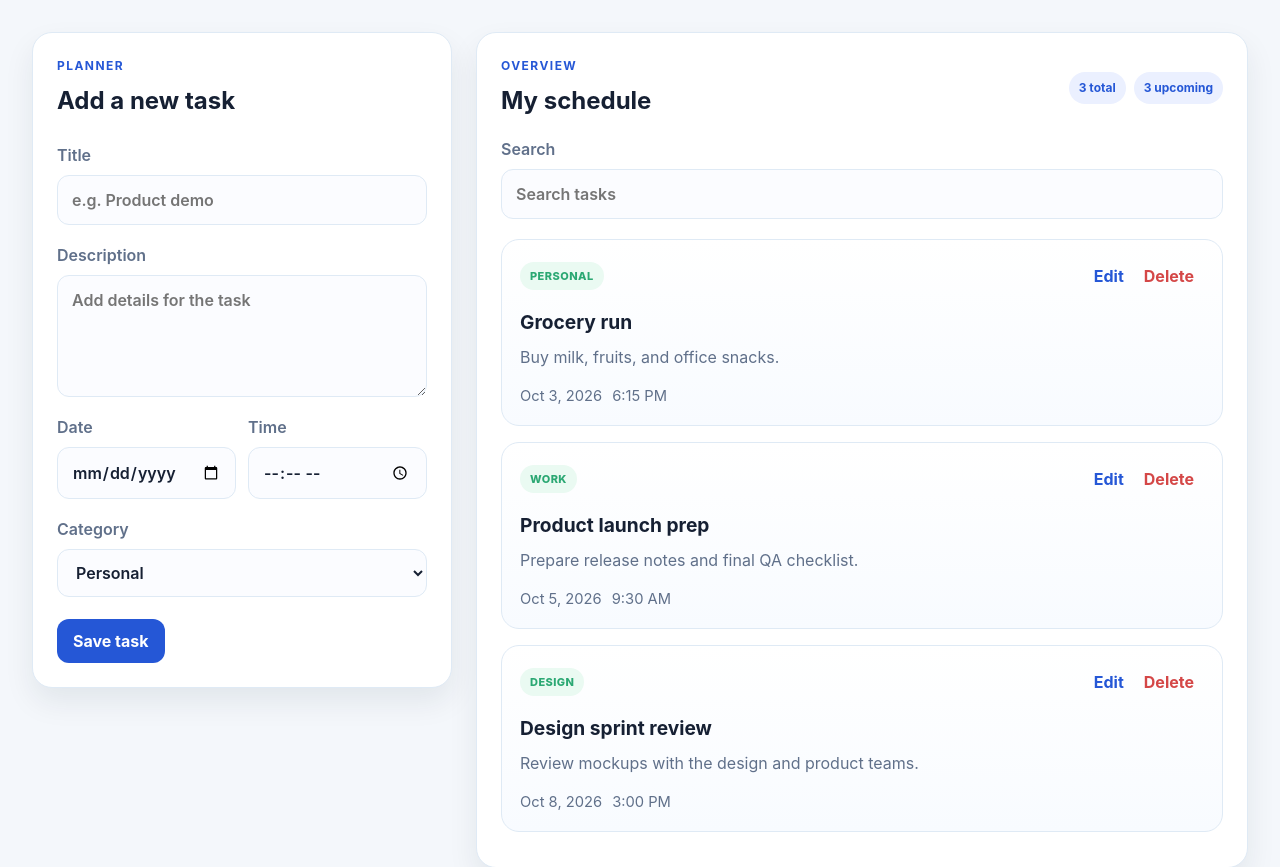
Test: Planner app › adds a task and filters tasks with search
Expected: the heading "Product launch prep" is shown, [520,513,709,537]
Type "Team sync" into the field labelled "Title" at (242, 200), box [57,175,427,225]
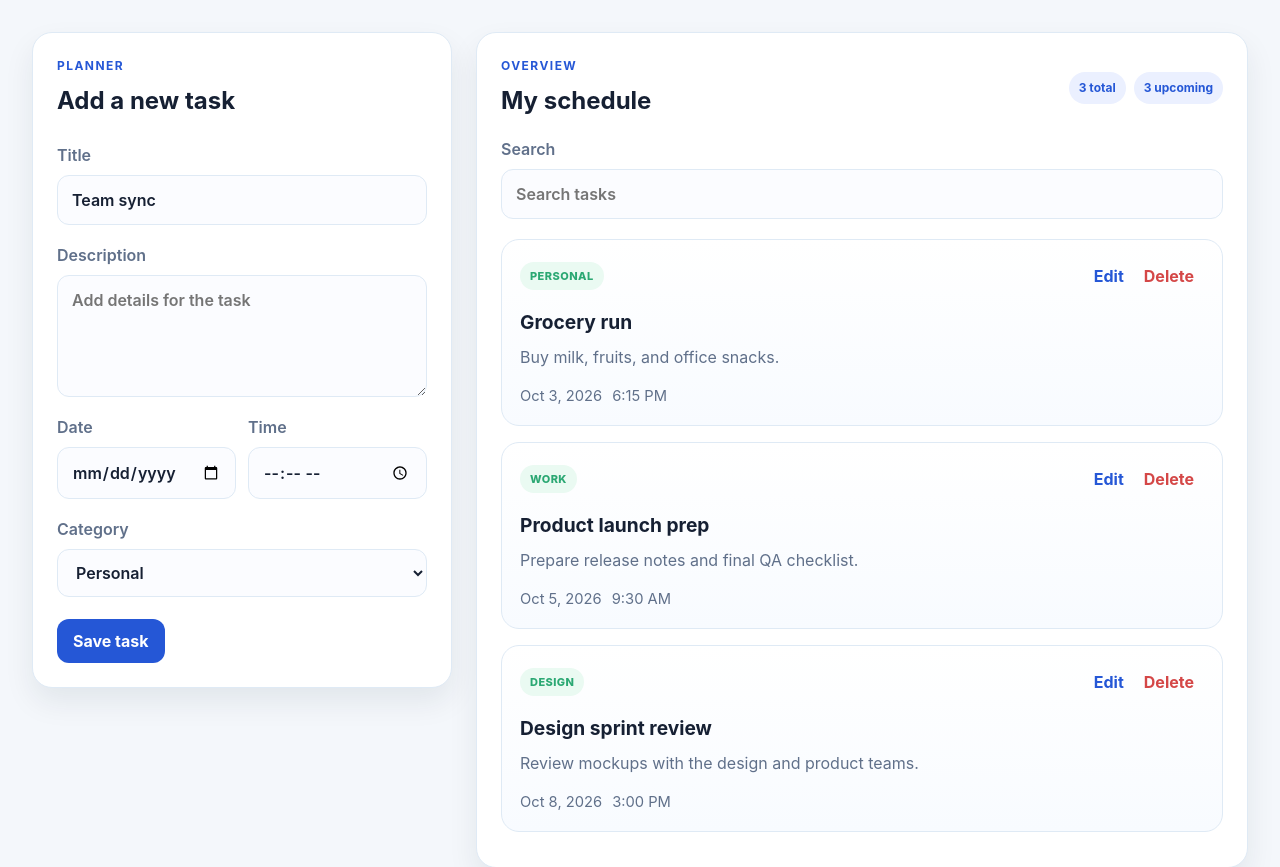
Type "2026-10-15" into the date field labelled "Date" at (146, 473), box [57,447,236,499]
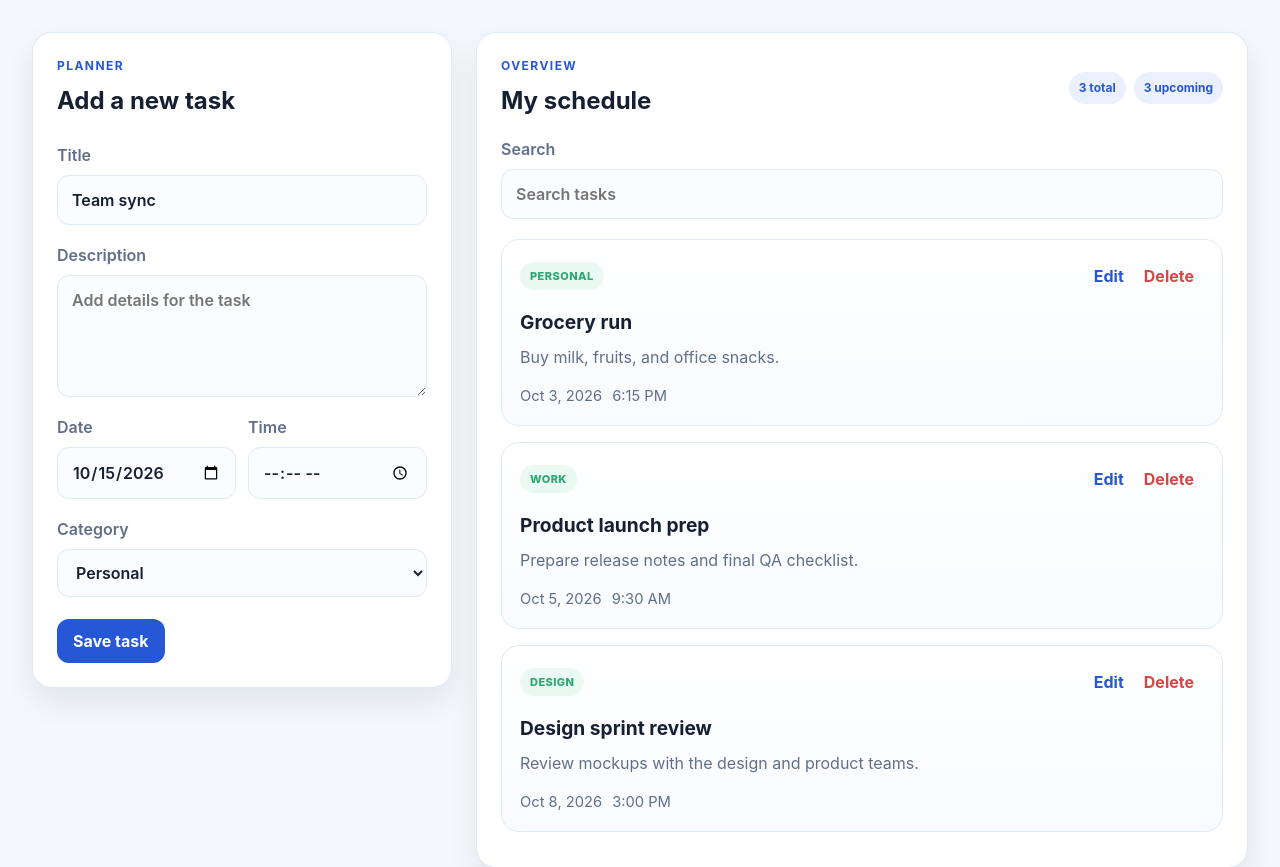
Type "14:30" into the time field labelled "Time" at (338, 473), box [248,447,427,499]
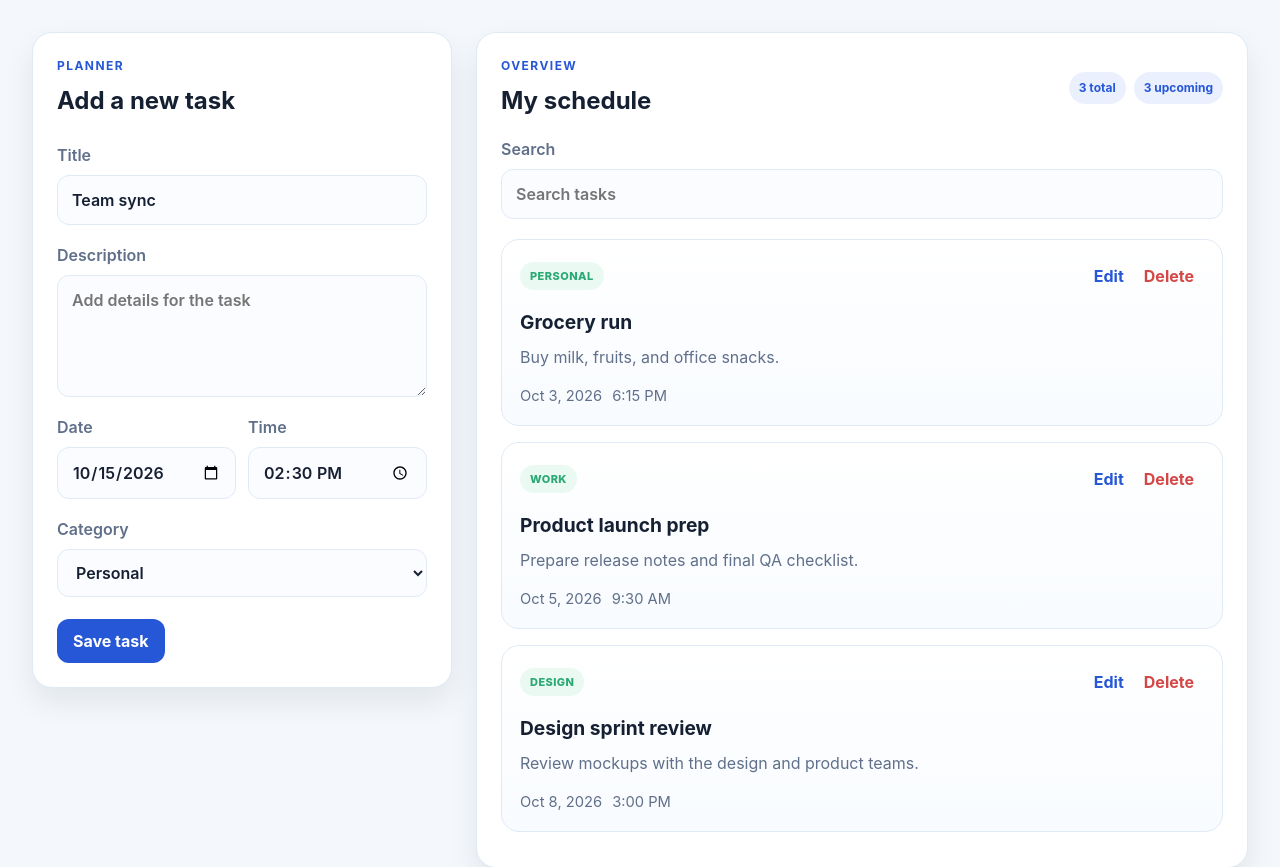
Type "Finalize launch checklist and owners." into the text box labelled "Description" at (242, 336), box [57,275,427,397]
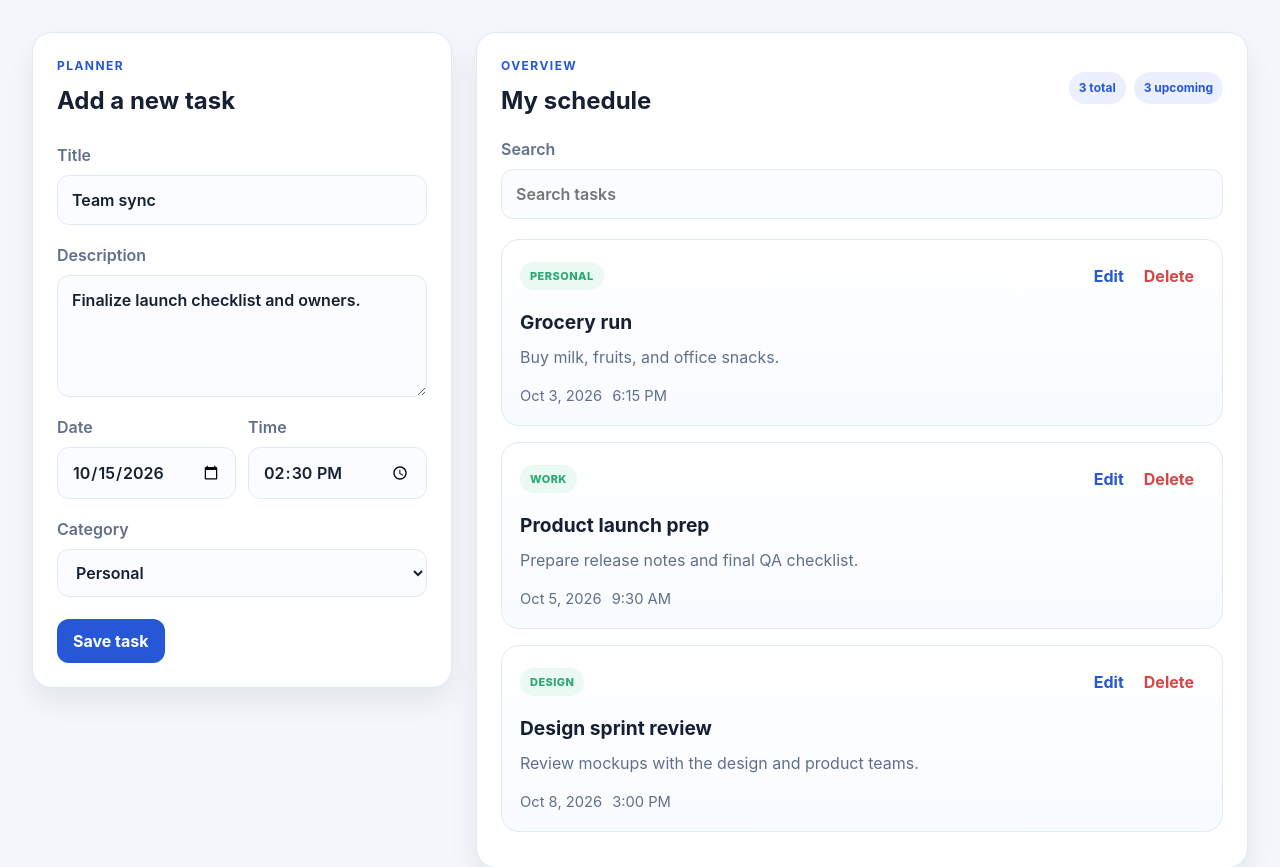
Click the button "Save task" at (111, 641), box [57,619,165,663]
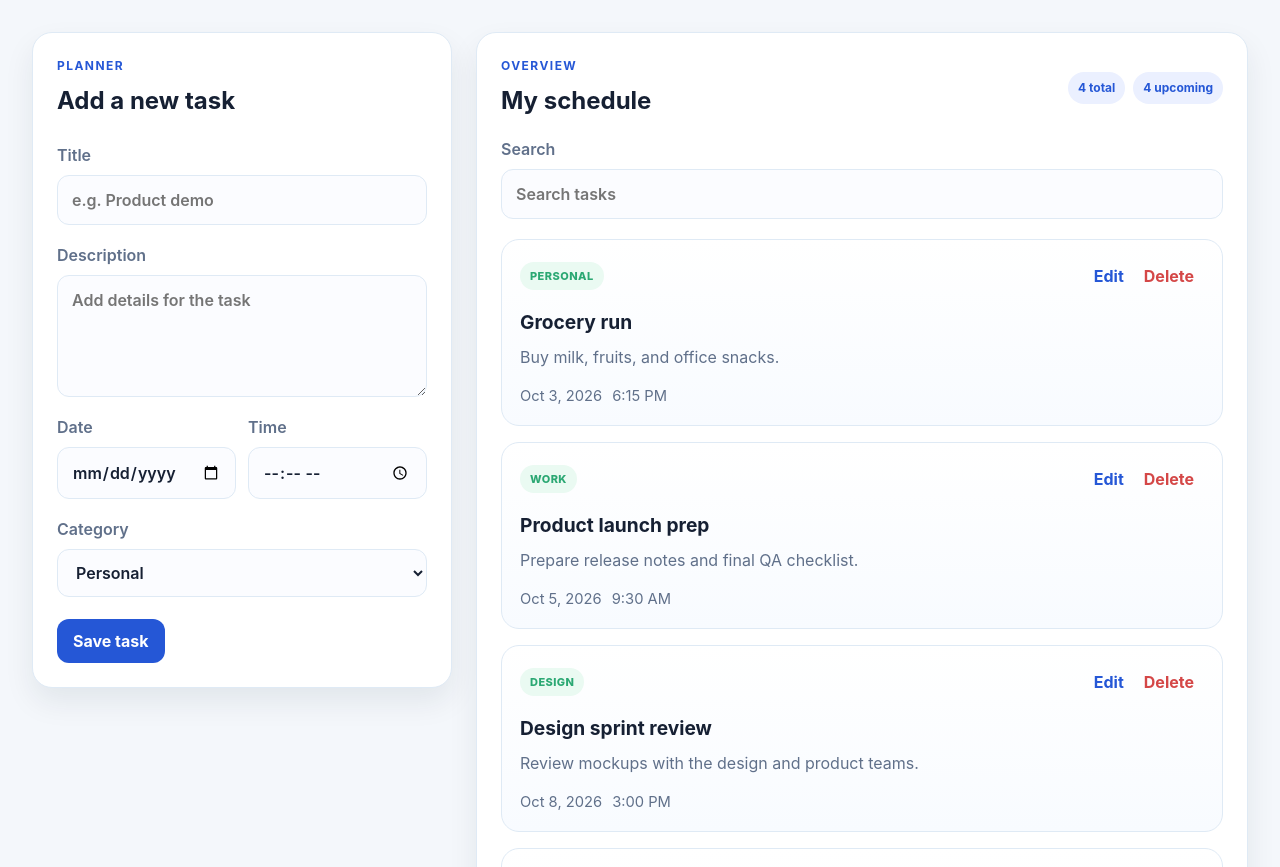
Type "design" into the search field with placeholder "Search tasks" at (862, 194), box [501,169,1223,219]
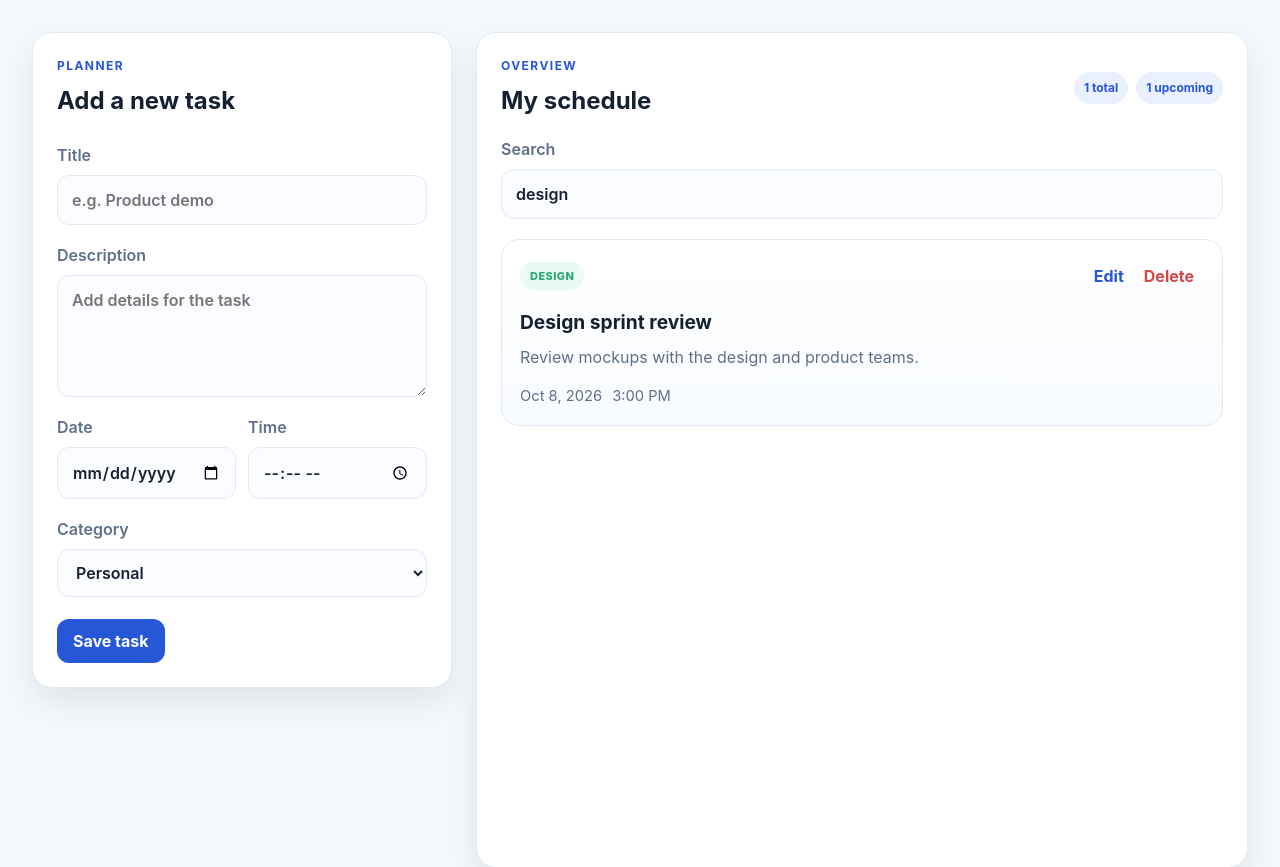
Expected: the heading "Design sprint review" is shown, [520,310,712,334]
Expected: the heading "Product launch prep" is gone
